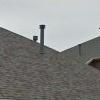Chimney: (30, 19, 50, 57)
